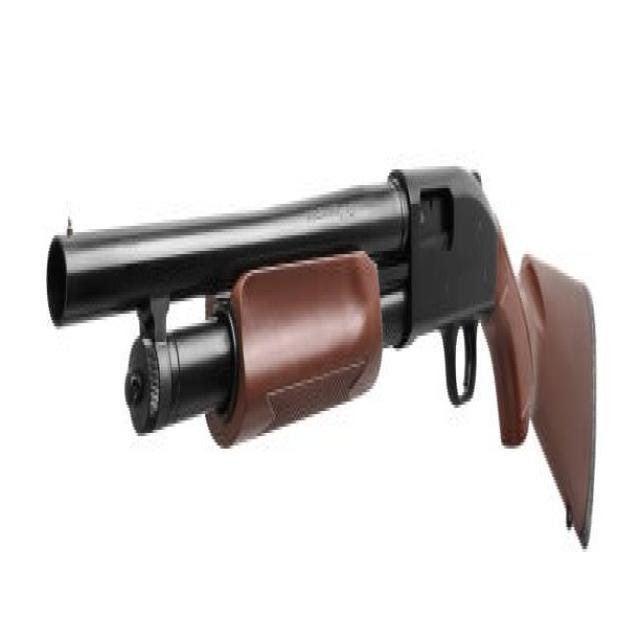rifle: (43, 142, 601, 577)
